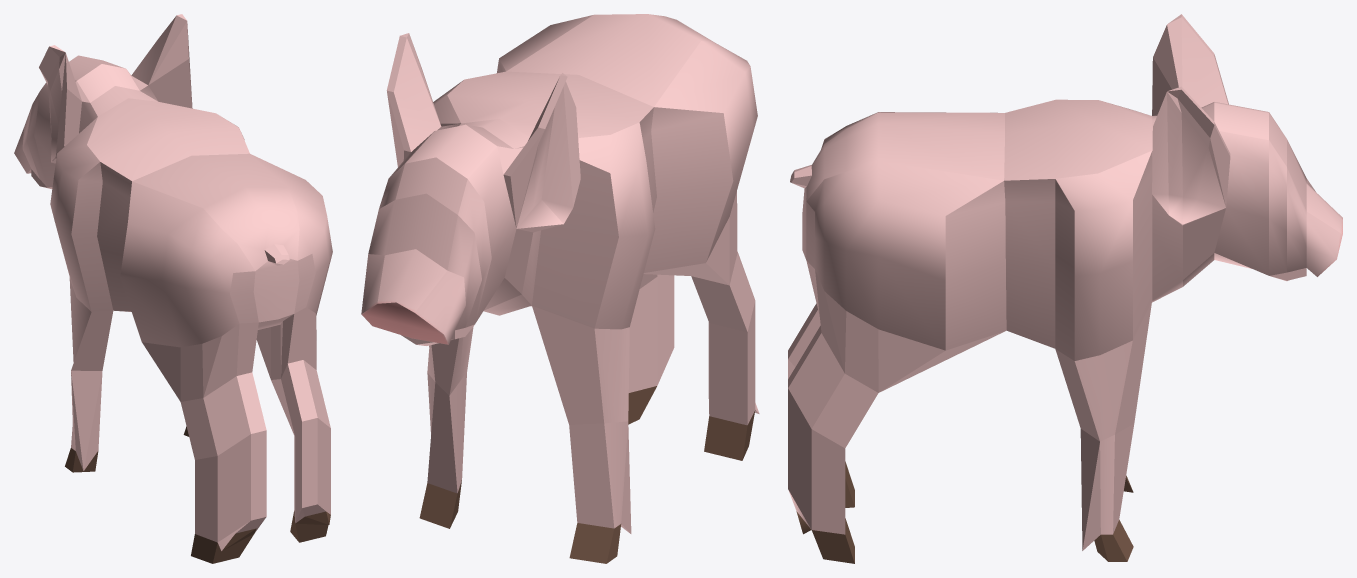
File: PlayerPiglet.fbx
The picture shows the model from 3 angles, left to right: view 1: azimuth 30°, elevation 25°; view 2: azimuth 150°, elevation 25°; view 3: azimuth 270°, elevation 25°; orthographic projection. The views are drawn at different scales.
Parts seen in each view (by area): view 1: Baby_pig_player; view 2: Baby_pig_player; view 3: Baby_pig_player.
Part boxes in pixels (x1,y1,x2,y2): Baby_pig_player: (14, 14, 332, 563); Baby_pig_player: (361, 14, 759, 563); Baby_pig_player: (788, 14, 1342, 563).
Bounding box in the file's own units: 14.68 × 29.58 × 31.29.
Materials: 1 (1 with a texture image).
